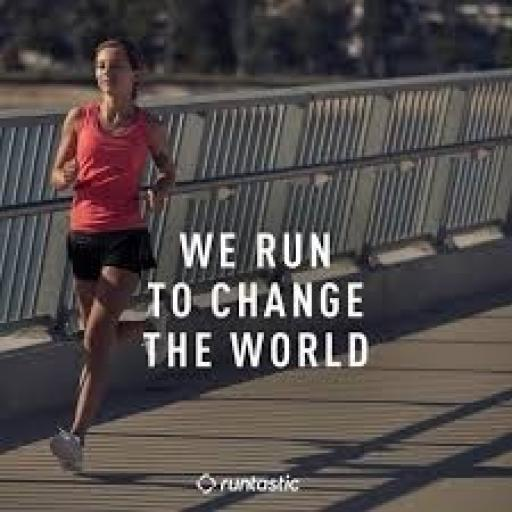running: (43, 34, 182, 480)
